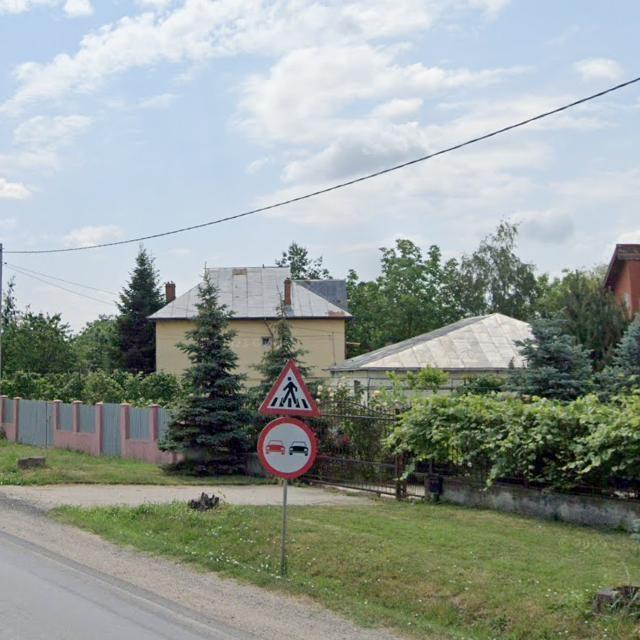forb_overtake: (257, 417, 317, 478)
warn_crosswalk: (258, 358, 321, 417)
